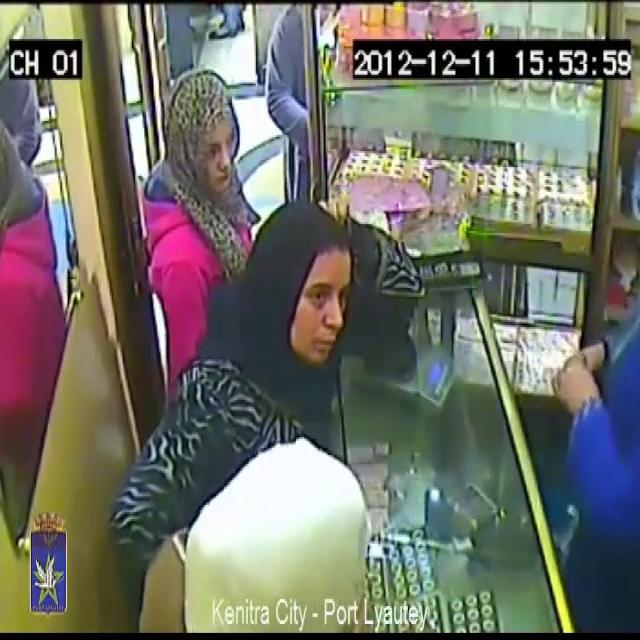normal: (504, 116, 640, 612), (178, 405, 395, 640), (130, 40, 242, 305), (213, 162, 344, 378)
